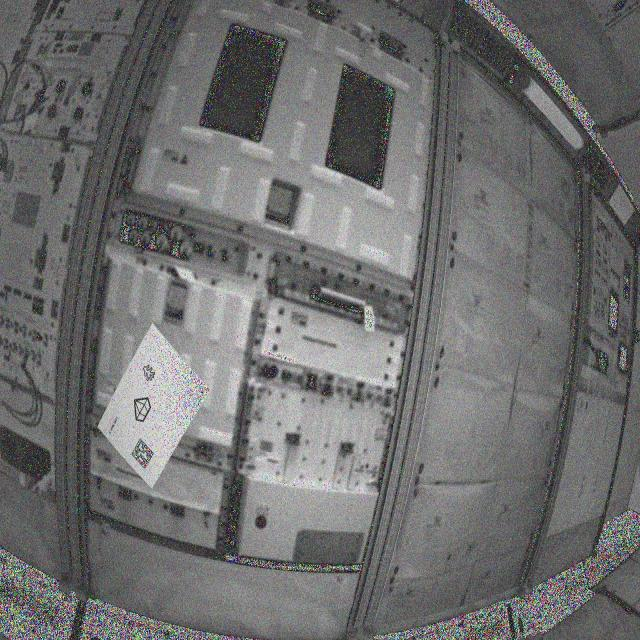coral: (142, 361, 162, 390)
diamond: (131, 391, 156, 427)
